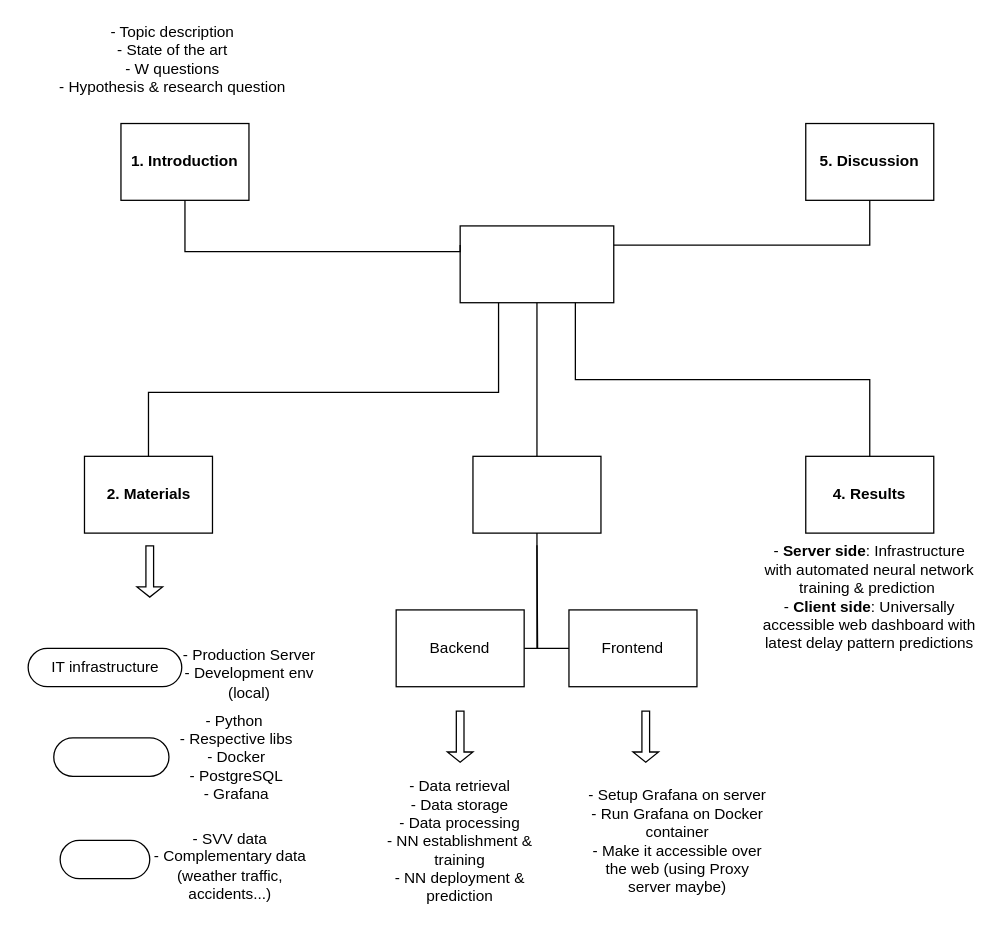
Some shapes in this 1001 by 928 pixel diagram are drawn without their labels. Here are the shapes that lost their labels. From the top down, the centre of each, then its label:
point (536, 264): AI4Mob
point (536, 494): 3. Methods
point (110, 756): Software
point (104, 859): Data
